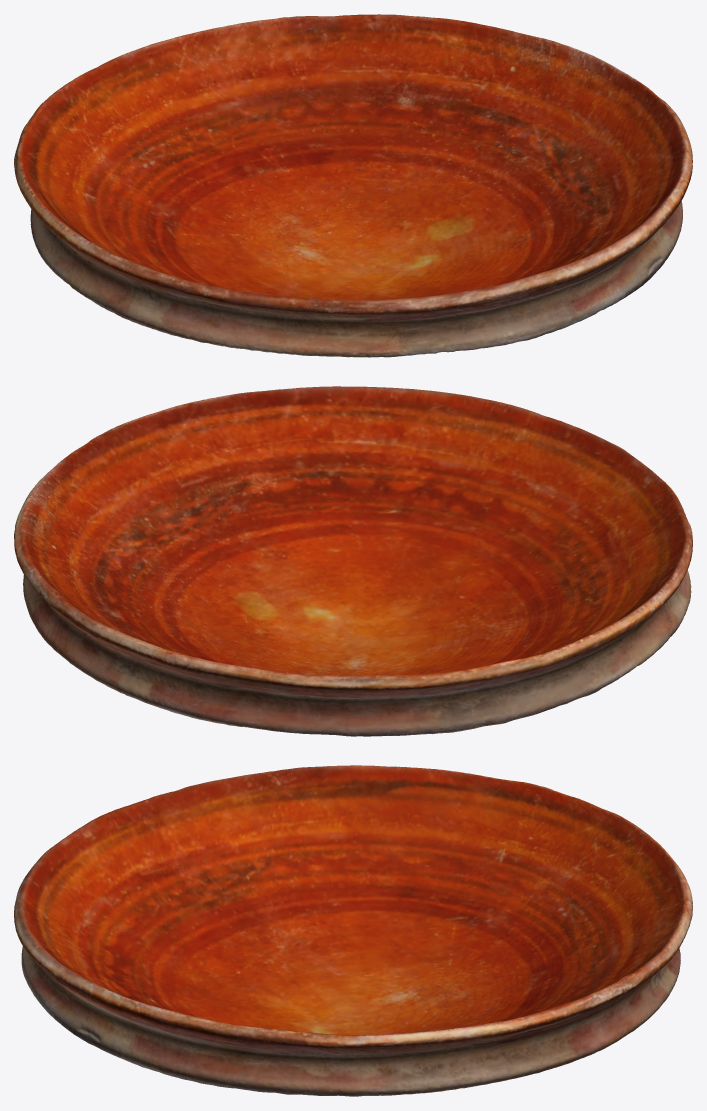
3 views of the same model, one above another, from view 1: azimuth 30°, elevation 25°; view 2: azimuth 150°, elevation 25°; view 3: azimuth 270°, elevation 25° (orthographic).
Parts seen in each view (by area): view 1: Mesh_0.005; view 2: Mesh_0.005; view 3: Mesh_0.005.
Part boxes in pixels (<box>): Mesh_0.005: <box>14,14,692,357</box>; Mesh_0.005: <box>14,386,692,736</box>; Mesh_0.005: <box>14,765,692,1096</box>.
Size of the model in its own units: 0.2515 by 0.0548 by 0.2552.
Materials: 1 (1 with a texture image).
